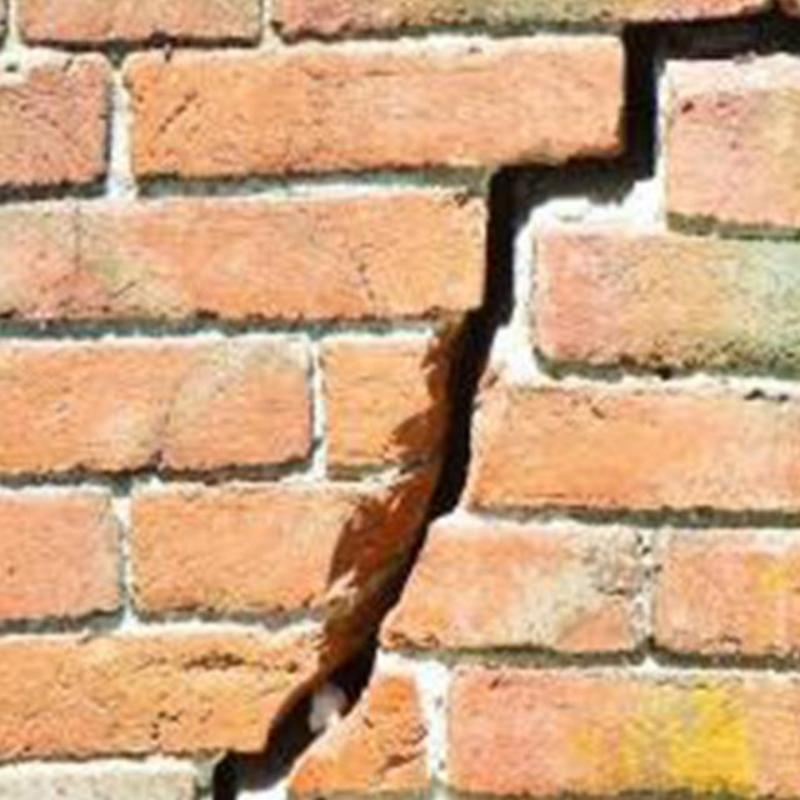pothole: (334, 14, 799, 711), (213, 700, 316, 800)
